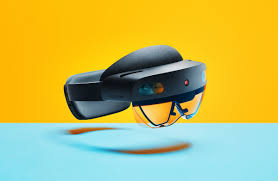hololens: (64, 45, 208, 129)
